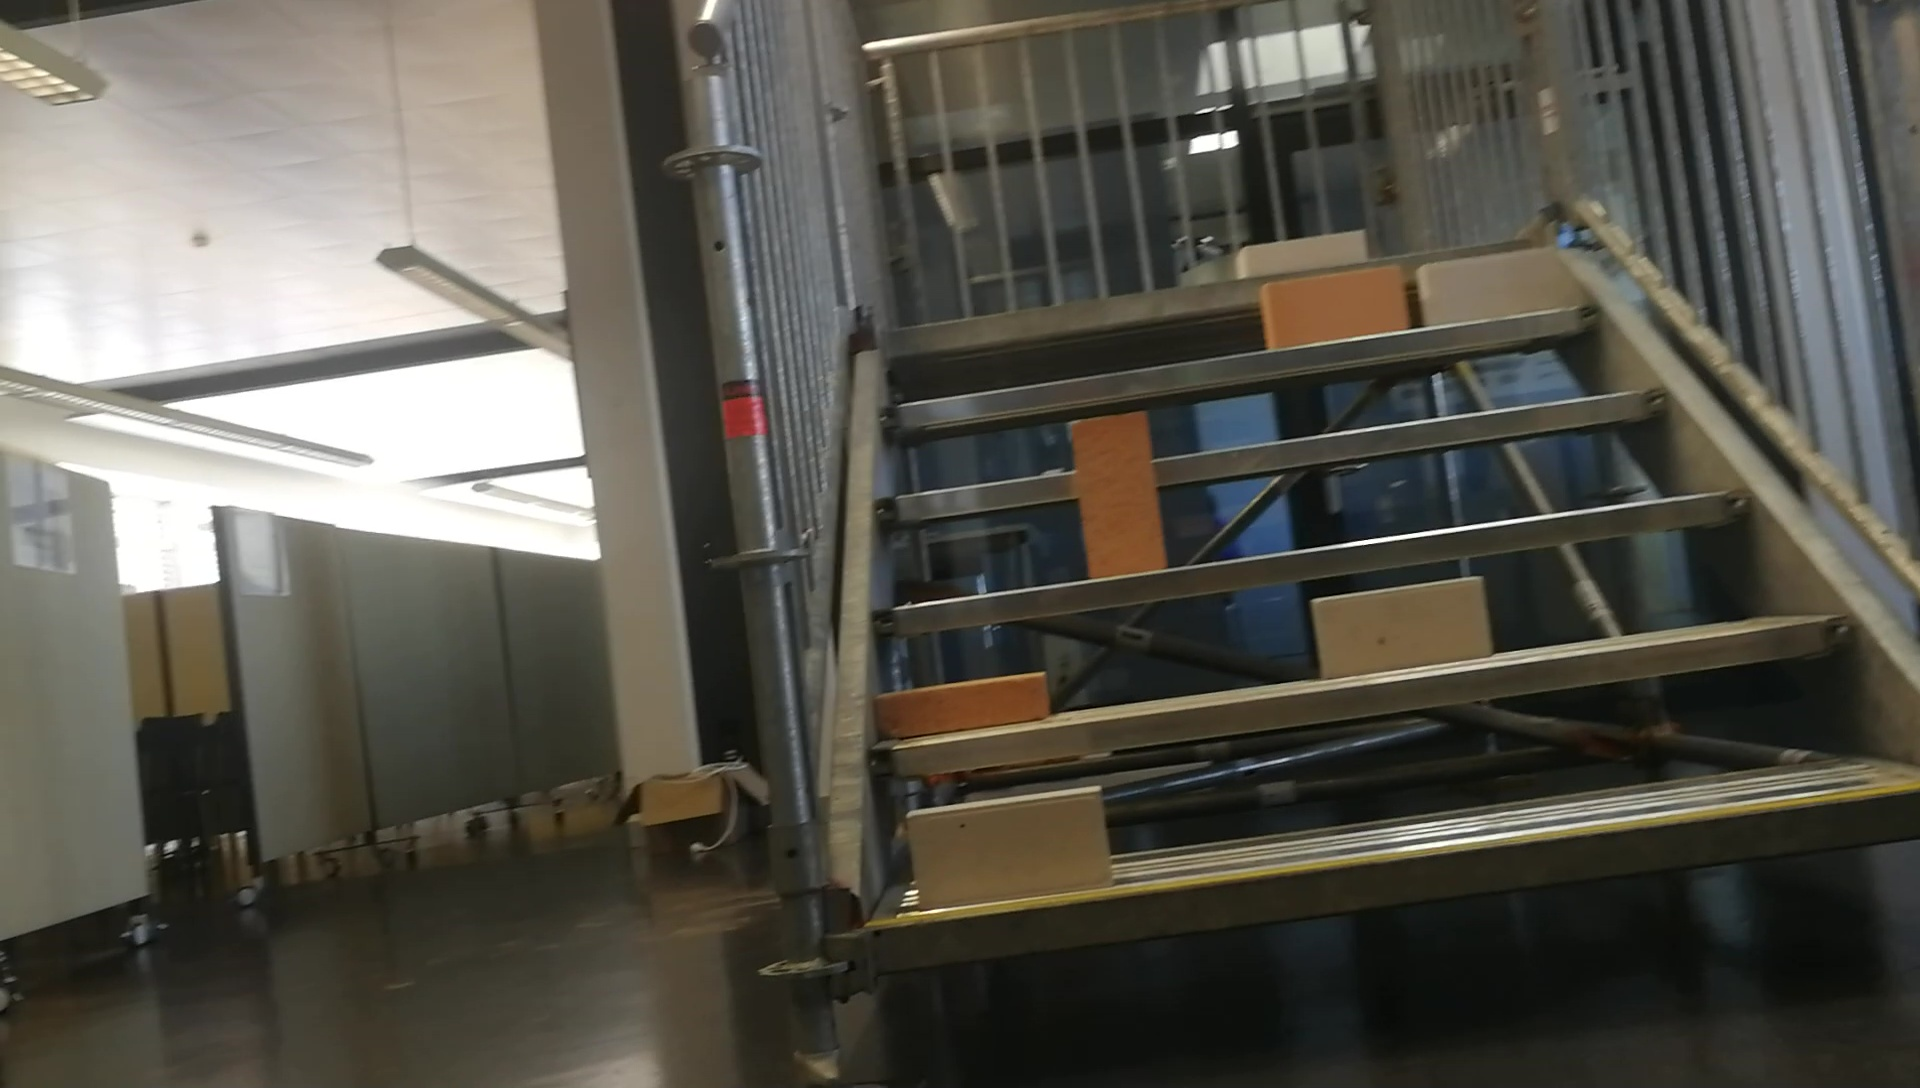brick: (910, 787, 1105, 909), (1313, 578, 1485, 684), (1073, 413, 1166, 578), (1261, 262, 1400, 352), (872, 669, 1043, 737), (1420, 253, 1565, 324), (1236, 226, 1362, 278)
edge: (872, 790, 1920, 963), (872, 616, 1844, 778), (877, 491, 1745, 630), (881, 390, 1665, 524), (882, 306, 1602, 433), (884, 240, 1534, 360)
steps: (837, 218, 1920, 986)
